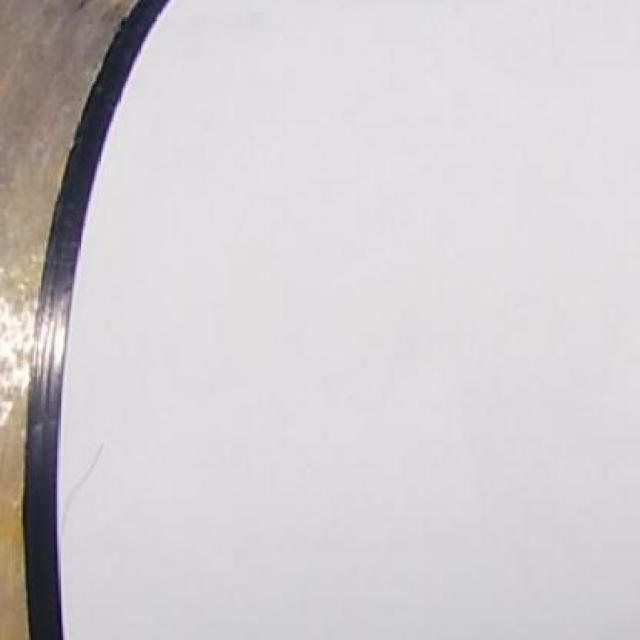Crack: (60, 443, 104, 537)
